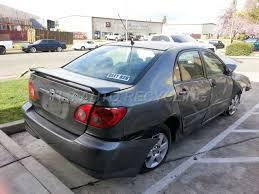rear-bumper-dent: (67, 126, 153, 178)
